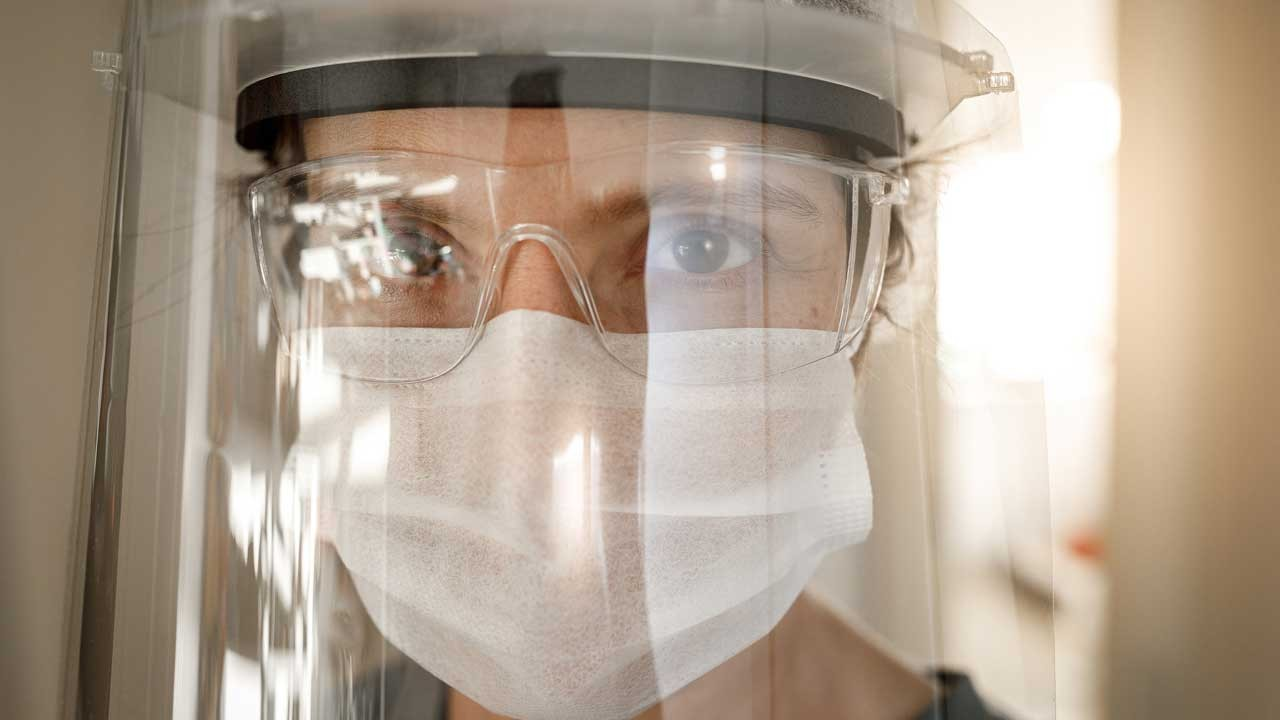Face_Shield: (109, 6, 1060, 720)
Goggles: (242, 145, 899, 388)
with_mask: (293, 202, 878, 720)
